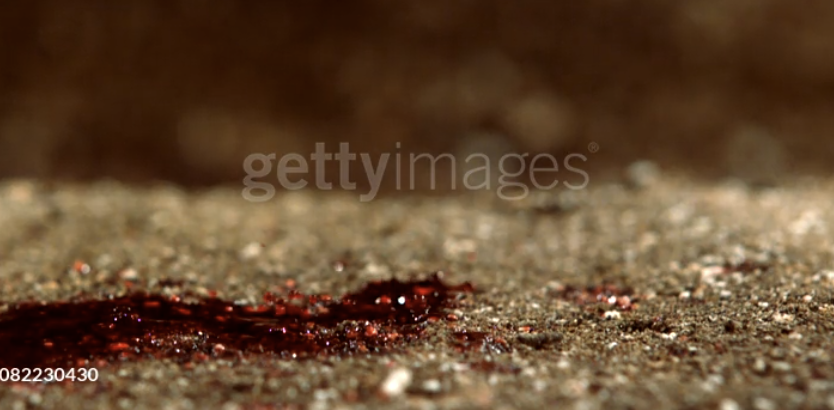blood_38.png: (7, 255, 775, 401)
